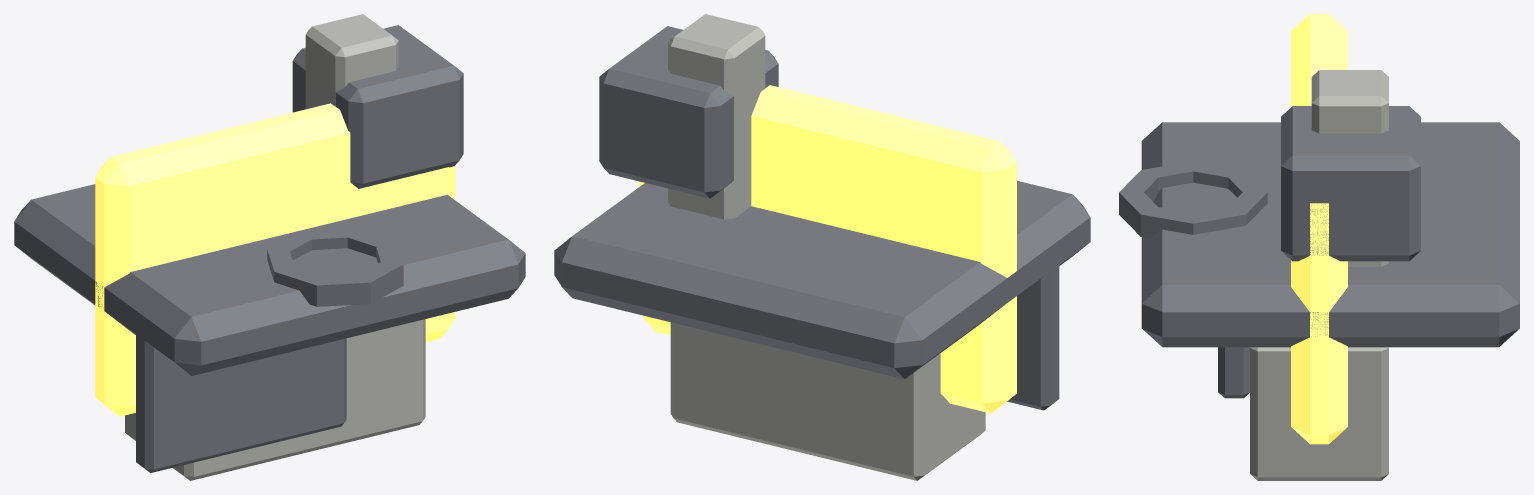
File: range_and_oven.glb
3 renders of one model, left to right at view 1: azimuth 30°, elevation 25°; view 2: azimuth 150°, elevation 25°; view 3: azimuth 270°, elevation 25°, orthographic. The views are drawn at different scales.
Visible parts, largest first — view 1: range_and_oven_3, range_and_oven_1, range_and_oven_2, range_and_oven_0; view 2: range_and_oven_3, range_and_oven_1, range_and_oven_0, range_and_oven_2; view 3: range_and_oven_3, range_and_oven_2, range_and_oven_0, range_and_oven_1.
Boxes of the visible parts, x1,y1,x2,y2 form: range_and_oven_3: [14, 184, 525, 375]; range_and_oven_1: [95, 103, 455, 416]; range_and_oven_2: [136, 25, 463, 472]; range_and_oven_0: [125, 14, 425, 480]; range_and_oven_3: [554, 181, 1090, 379]; range_and_oven_1: [639, 85, 1016, 413]; range_and_oven_0: [668, 14, 985, 480]; range_and_oven_2: [599, 26, 1059, 410]; range_and_oven_3: [1119, 122, 1519, 347]; range_and_oven_2: [1218, 106, 1420, 398]; range_and_oven_0: [1250, 70, 1388, 480]; range_and_oven_1: [1291, 14, 1347, 444].
Bounding box in the file's own units: 2 × 2 × 1.88.
